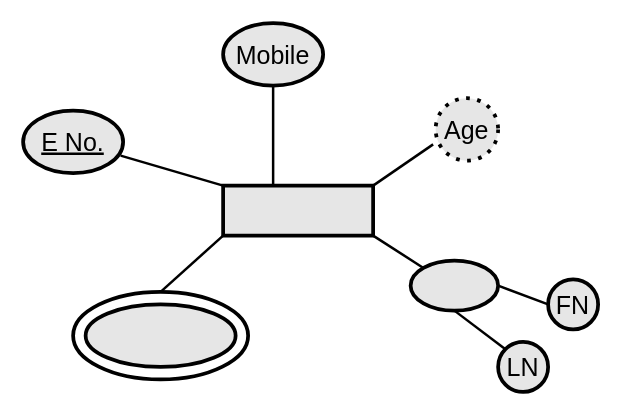
Image size: 621x415. Some labels were removed from this diagram. The shapes that lost their labels are listed below. From the top down, each one's centre as x and y in pixels, then its label:
At pixel 297 210: "Students".
At pixel 453 285: "Name".
At pixel 160 335: "Email ID".
